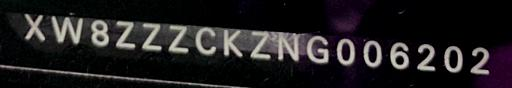letter: (48, 11, 84, 45), (272, 31, 304, 63), (164, 21, 194, 55), (244, 27, 274, 61), (218, 23, 246, 59), (20, 10, 48, 44), (304, 31, 332, 65), (466, 42, 494, 76), (85, 16, 111, 51), (112, 16, 138, 51), (386, 38, 414, 70), (138, 18, 164, 52), (332, 36, 360, 67), (192, 25, 220, 55), (414, 42, 442, 72), (442, 40, 466, 73), (360, 36, 384, 68)
